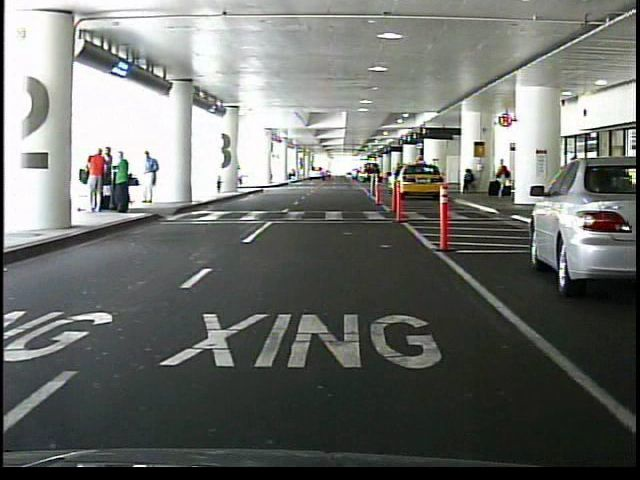person: (89, 148, 108, 214), (115, 152, 134, 217), (142, 152, 161, 208), (105, 146, 119, 210), (495, 160, 510, 200), (460, 170, 477, 197)
